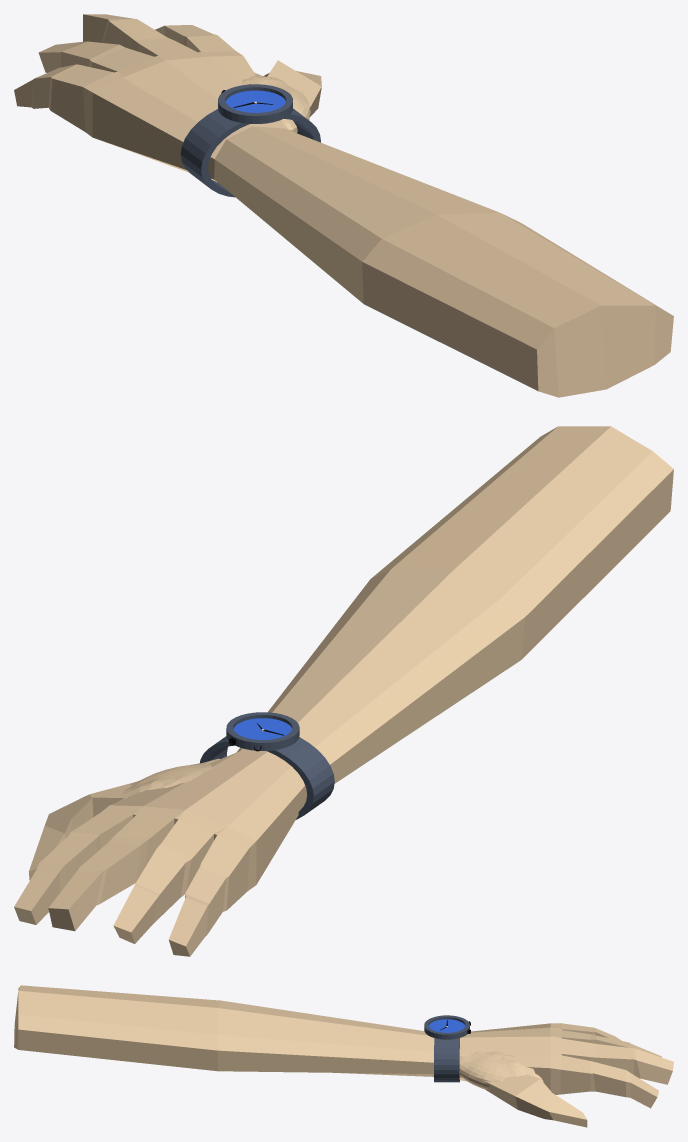
The model's file is handWithThirdWatch.gltf.
3 renders of one model, top to bottom at view 1: azimuth 30°, elevation 25°; view 2: azimuth 150°, elevation 25°; view 3: azimuth 270°, elevation 25°, orthographic. The views are drawn at different scales.
Visible parts, largest first — view 1: Cube, Cylinder, Cylinder.001_Cylinder.002, Circle.003; view 2: Cube, Cylinder, Cylinder.001_Cylinder.002, Circle.003; view 3: Cube, Cylinder, Cylinder.001_Cylinder.002, Circle.003.
Part boxes in pixels (x1,y1,x2,y2): Cube: (14, 14, 673, 397); Cylinder: (180, 108, 320, 197); Cylinder.001_Cylinder.002: (218, 84, 292, 123); Circle.003: (225, 90, 285, 112); Cube: (14, 426, 673, 956); Cylinder: (200, 736, 334, 819); Cylinder.001_Cylinder.002: (226, 712, 299, 750); Circle.003: (233, 718, 292, 739); Cube: (14, 985, 673, 1127); Cylinder: (434, 1038, 459, 1082); Cylinder.001_Cylinder.002: (424, 1015, 469, 1039); Circle.003: (428, 1019, 465, 1032).
Size of the model in its own units: 3.01 by 2.04 by 12.45.
